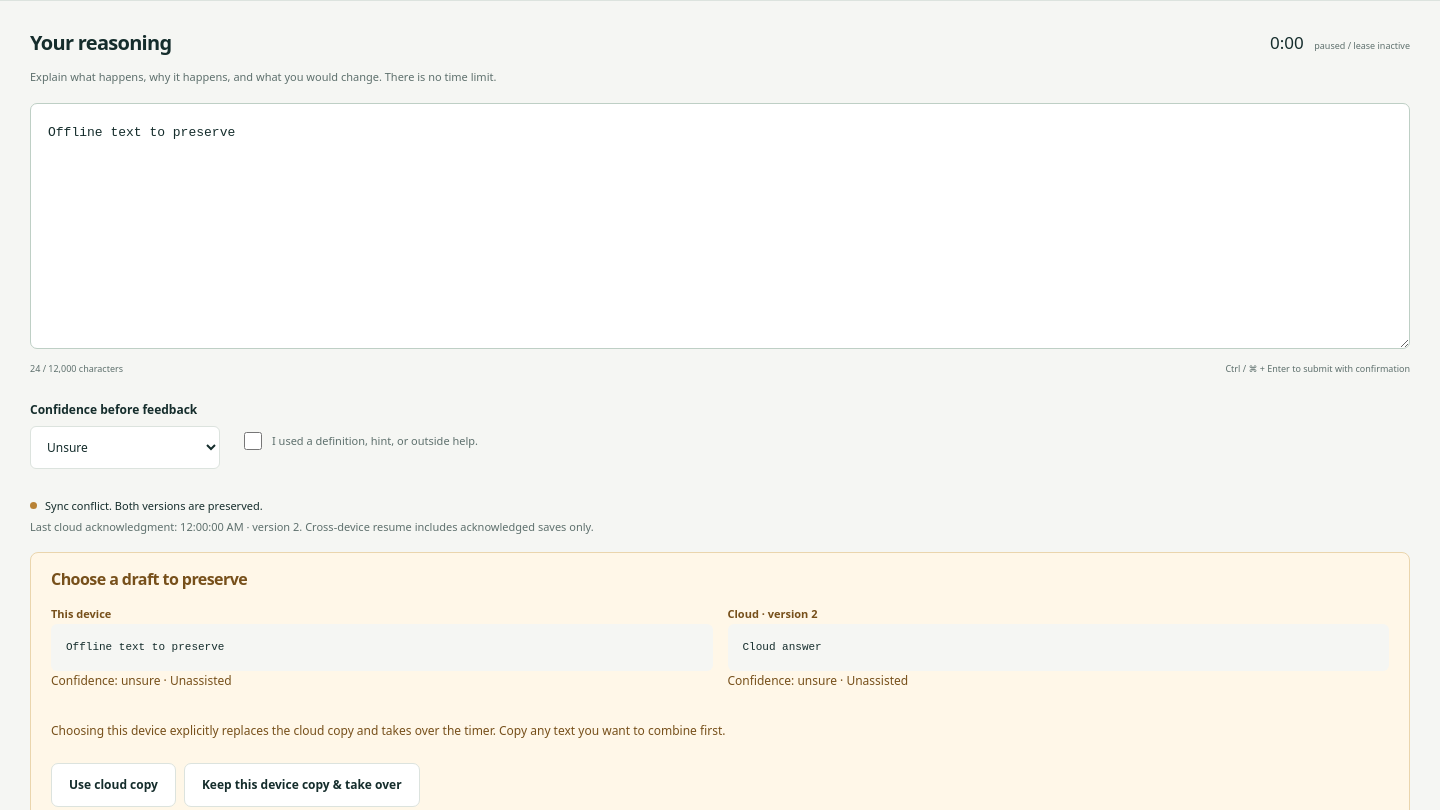
Test case: keeps offline text and sends the explicit takeover instead of the stale disconnect action
This screenshot has width=1440, height=810.
Expected: the heading "Choose a draft to preserve" is shown, [51,568,247,590]
What coordinates should you click on to do the following:
click the button "Keep this device copy & take over"
I would click on:
 (302, 785)
Its box is [184,763,420,807].
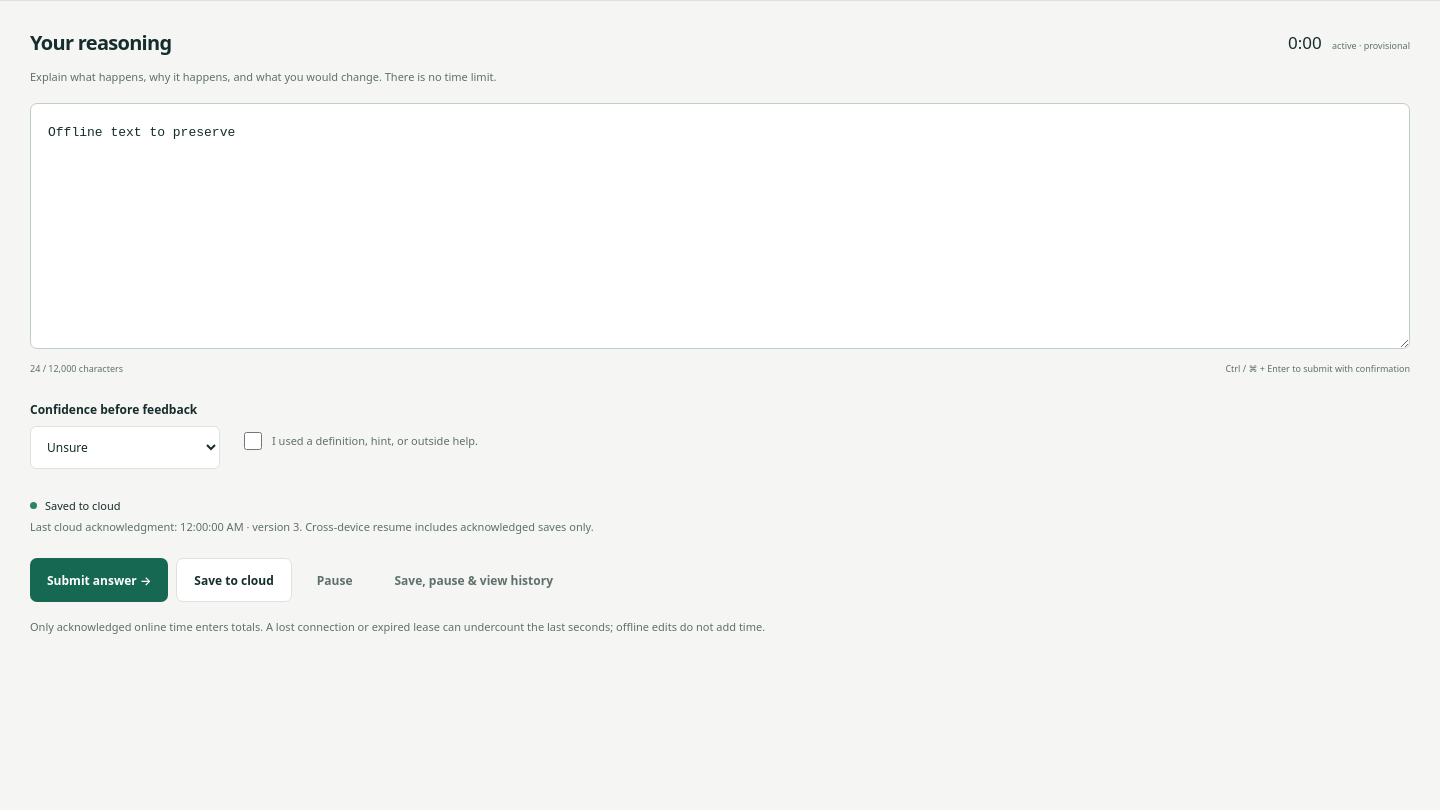
Expected: the text box named "Your answer" holds "Offline text to preserve", [30,103,1410,349]
Expected: the text "Saved to cloud" is shown, [30,498,120,513]
